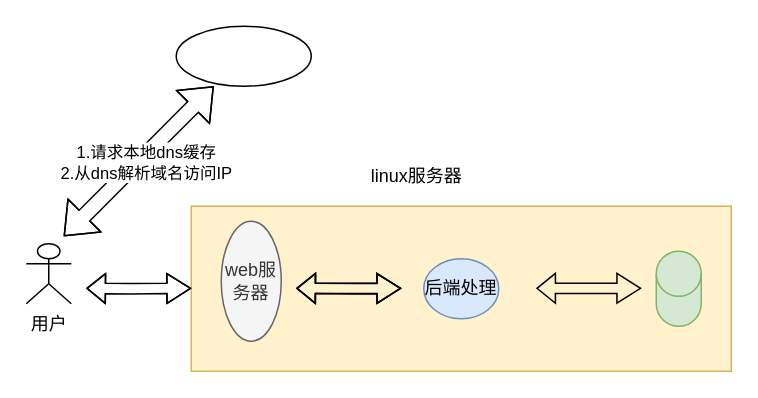
Image size: 758x398. Some labels were removed from this diagram. Here are the shapes that lost their labels. From the top down, the centre of each, then its label:
pixel 243 55: DNS
pixel 678 288: db
